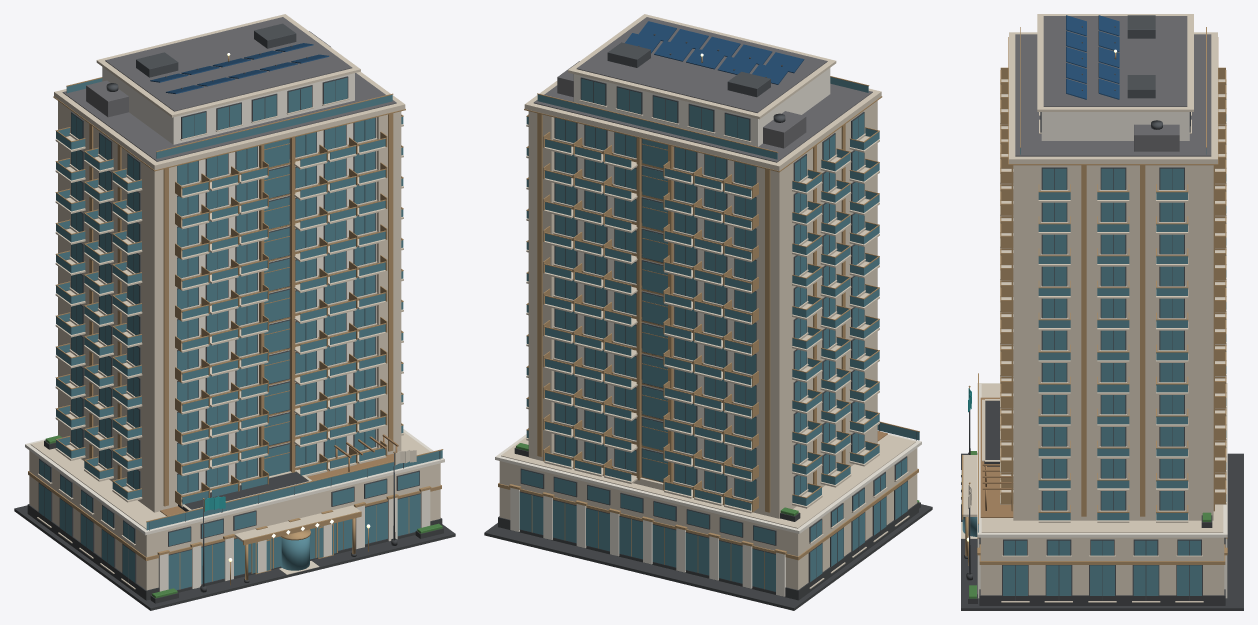
The model's file is grand_hotel.glb.
3 views of the same model, side by side, from view 1: azimuth 30°, elevation 25°; view 2: azimuth 150°, elevation 25°; view 3: azimuth 270°, elevation 25° (orthographic). The views are drawn at different scales.
Visible parts, largest first — view 1: Merged_HotelGlass, Merged_HotelStone, Merged_HotelBronze, Merged_HotelPlaster, Merged_RoofDark, Merged_WindowFrame, Merged_HotelGranite, Merged_SolarCell, Merged_HotelWood; view 2: Merged_HotelGlass, Merged_HotelStone, Merged_HotelBronze, Merged_HotelPlaster, Merged_WindowFrame, Merged_RoofDark, Merged_HotelGranite, Merged_SolarCell; view 3: Merged_HotelStone, Merged_HotelGlass, Merged_HotelBronze, Merged_RoofDark, Merged_HotelGranite, Merged_WindowFrame, Merged_HotelPlaster, Merged_SolarCell, Merged_HotelWood.
Boxes of the visible parts, left/top/right/bottom form: Merged_HotelGlass: left=39, top=77, right=442, bottom=590; Merged_HotelStone: left=29, top=14, right=440, bottom=590; Merged_HotelBronze: left=28, top=56, right=443, bottom=589; Merged_HotelPlaster: left=25, top=67, right=444, bottom=591; Merged_RoofDark: left=62, top=17, right=396, bottom=161; Merged_WindowFrame: left=38, top=23, right=440, bottom=590; Merged_HotelGranite: left=14, top=440, right=455, bottom=610; Merged_SolarCell: left=150, top=43, right=329, bottom=93; Merged_HotelWood: left=160, top=434, right=398, bottom=516; Merged_HotelGlass: left=519, top=77, right=919, bottom=591; Merged_HotelStone: left=499, top=14, right=917, bottom=589; Merged_HotelBronze: left=498, top=56, right=919, bottom=589; Merged_HotelPlaster: left=495, top=68, right=921, bottom=596; Merged_WindowFrame: left=519, top=34, right=916, bottom=592; Merged_RoofDark: left=533, top=17, right=872, bottom=162; Merged_HotelGranite: left=484, top=447, right=932, bottom=610; Merged_SolarCell: left=625, top=21, right=804, bottom=84; Merged_HotelStone: left=963, top=14, right=1226, bottom=602; Merged_HotelGlass: left=962, top=84, right=1226, bottom=595; Merged_HotelBronze: left=961, top=27, right=1227, bottom=565; Merged_RoofDark: left=1015, top=16, right=1211, bottom=156; Merged_HotelGranite: left=961, top=401, right=1243, bottom=610; Merged_WindowFrame: left=968, top=15, right=1225, bottom=600; Merged_HotelPlaster: left=977, top=112, right=1227, bottom=598; Merged_SolarCell: left=1066, top=15, right=1119, bottom=99; Merged_HotelWood: left=980, top=397, right=1013, bottom=517.
Size of the model in its own units: 33.6 by 49.07 by 26.
